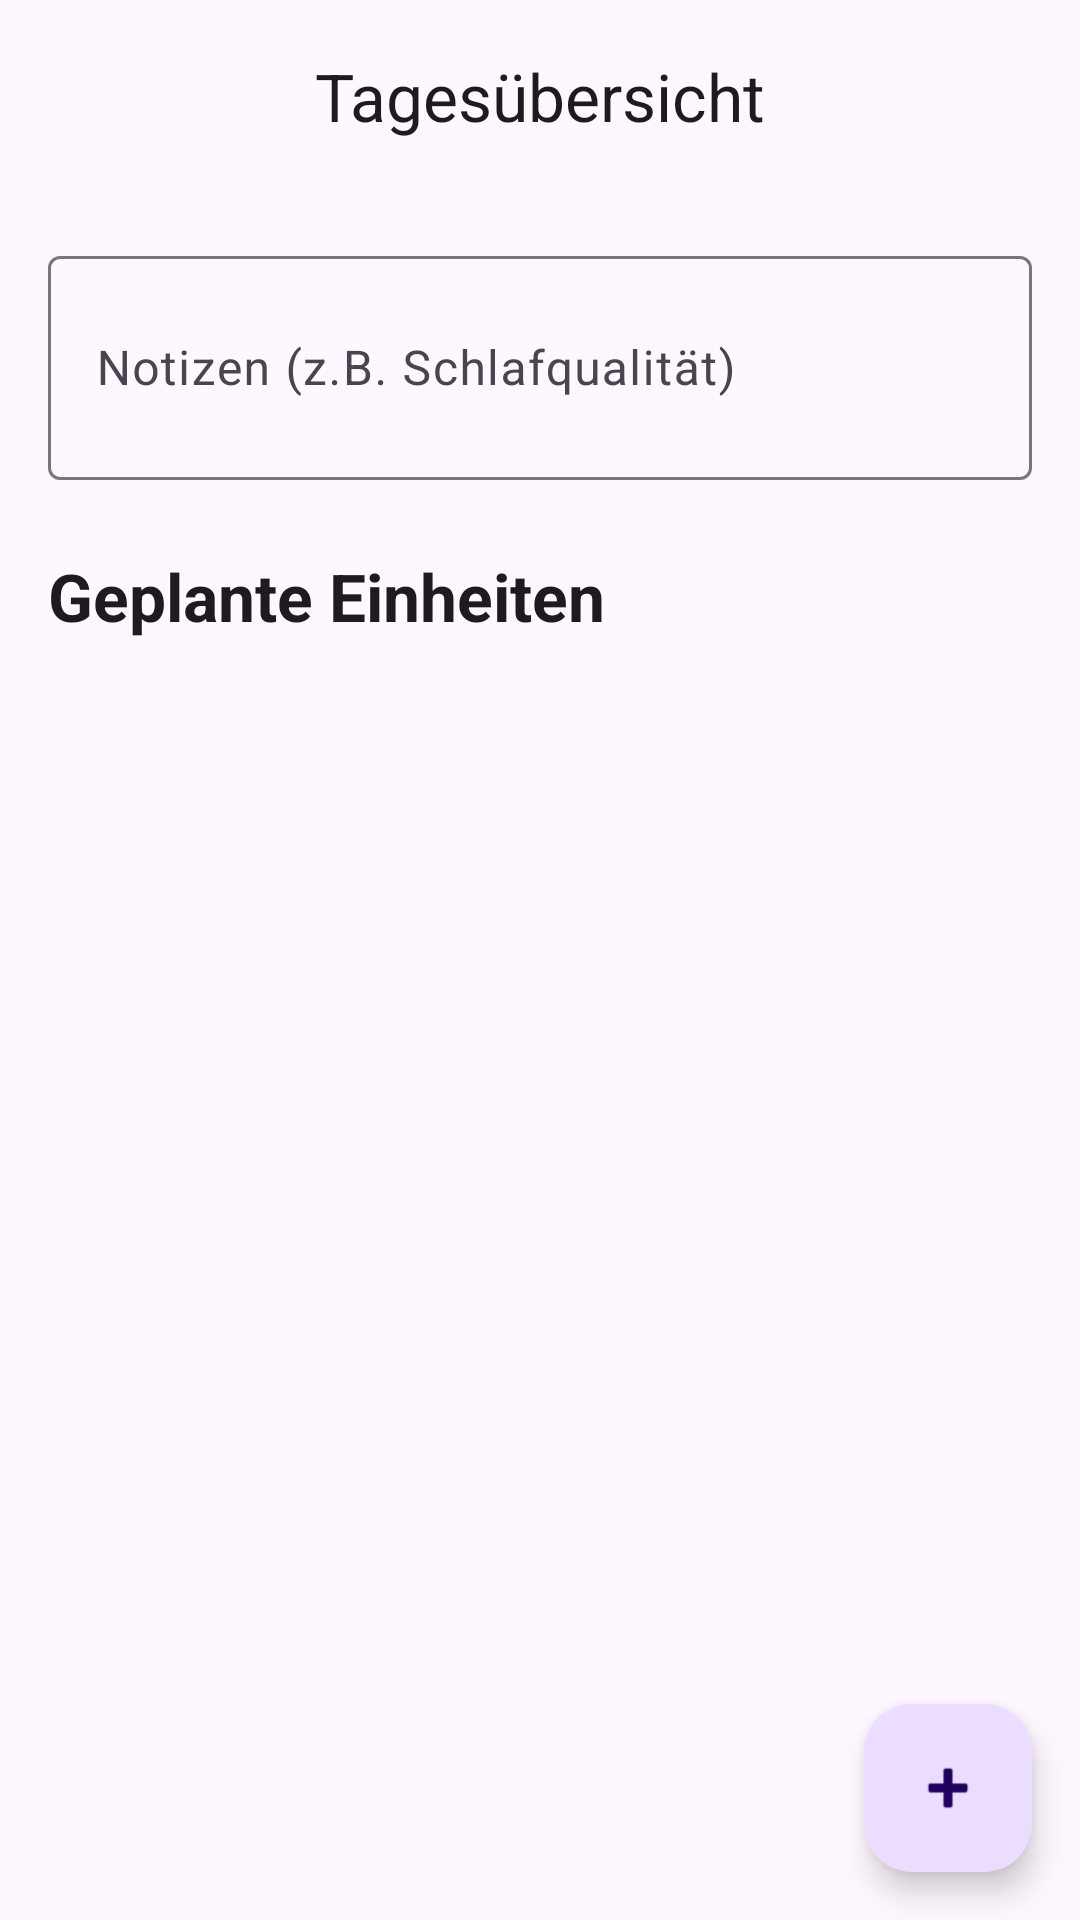

Icons on this 1080w x 1920h Android screen, each with the point to tap as (x=x, y=y):
Neue Trainingseinheit hinzufügen: (x=948, y=1788)
